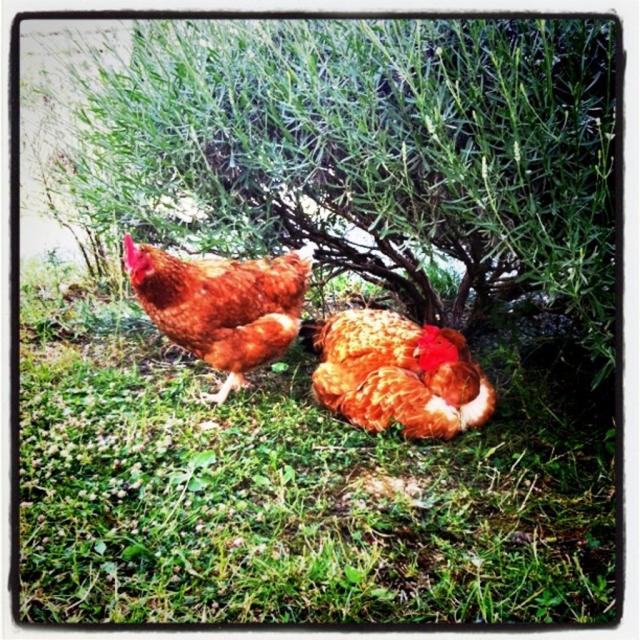Chicken: (124, 234, 314, 407), (298, 302, 495, 439)
